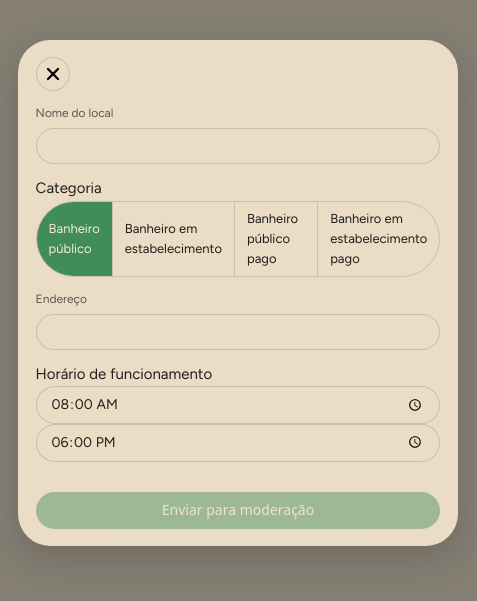
shows a submit error when moderate-submit resolves with an error
This screenshot has width=477, height=601.
Type "Padaria Bom Pão" into the field labelled "Nome do local" at coordinates (238, 146), box [36, 128, 440, 164]
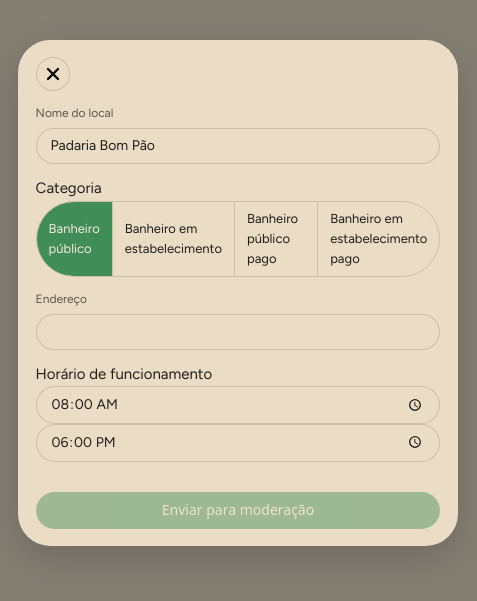
Type "Rua das Flores, 123" into the field labelled "Endereço" at coordinates (238, 332), box [36, 314, 440, 350]
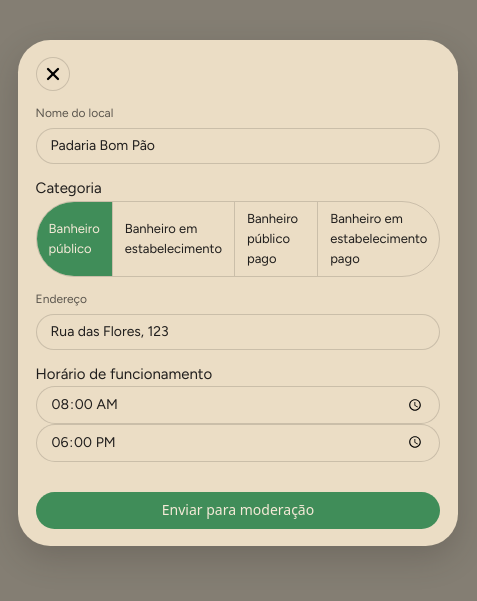
Click the button "Enviar para moderação" at coordinates (238, 510), box [36, 492, 440, 529]
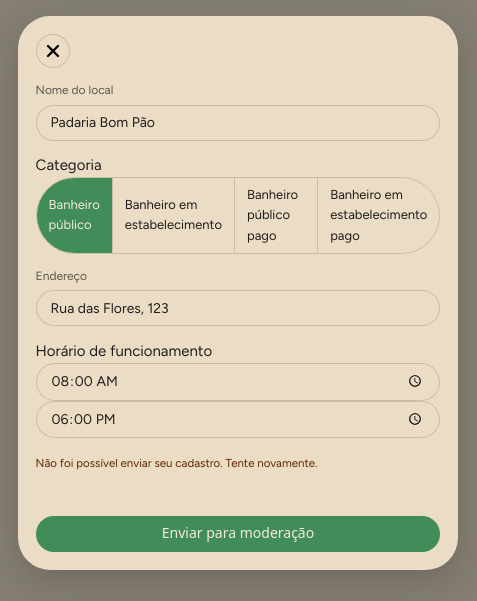
Now the text "Não foi possível enviar seu cadastro. Tente novamente." is shown, box [36, 456, 317, 470]
